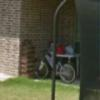bicycles: (32, 49, 53, 78), (56, 62, 76, 83)
